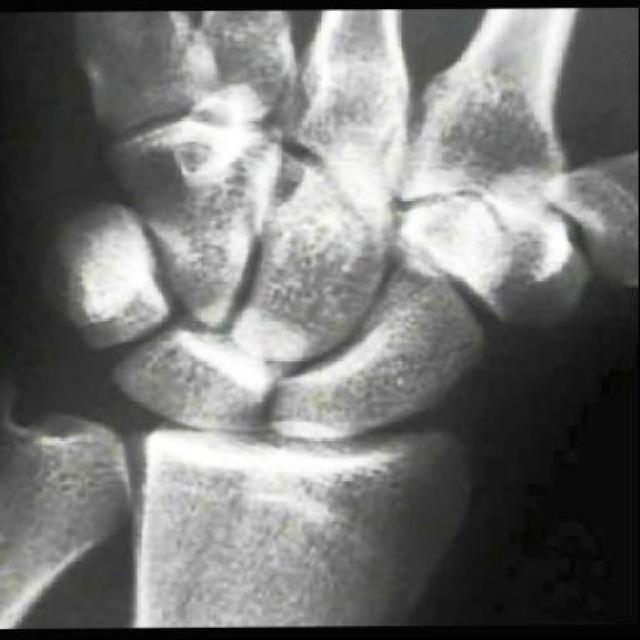Fracture: (386, 329, 479, 396)
